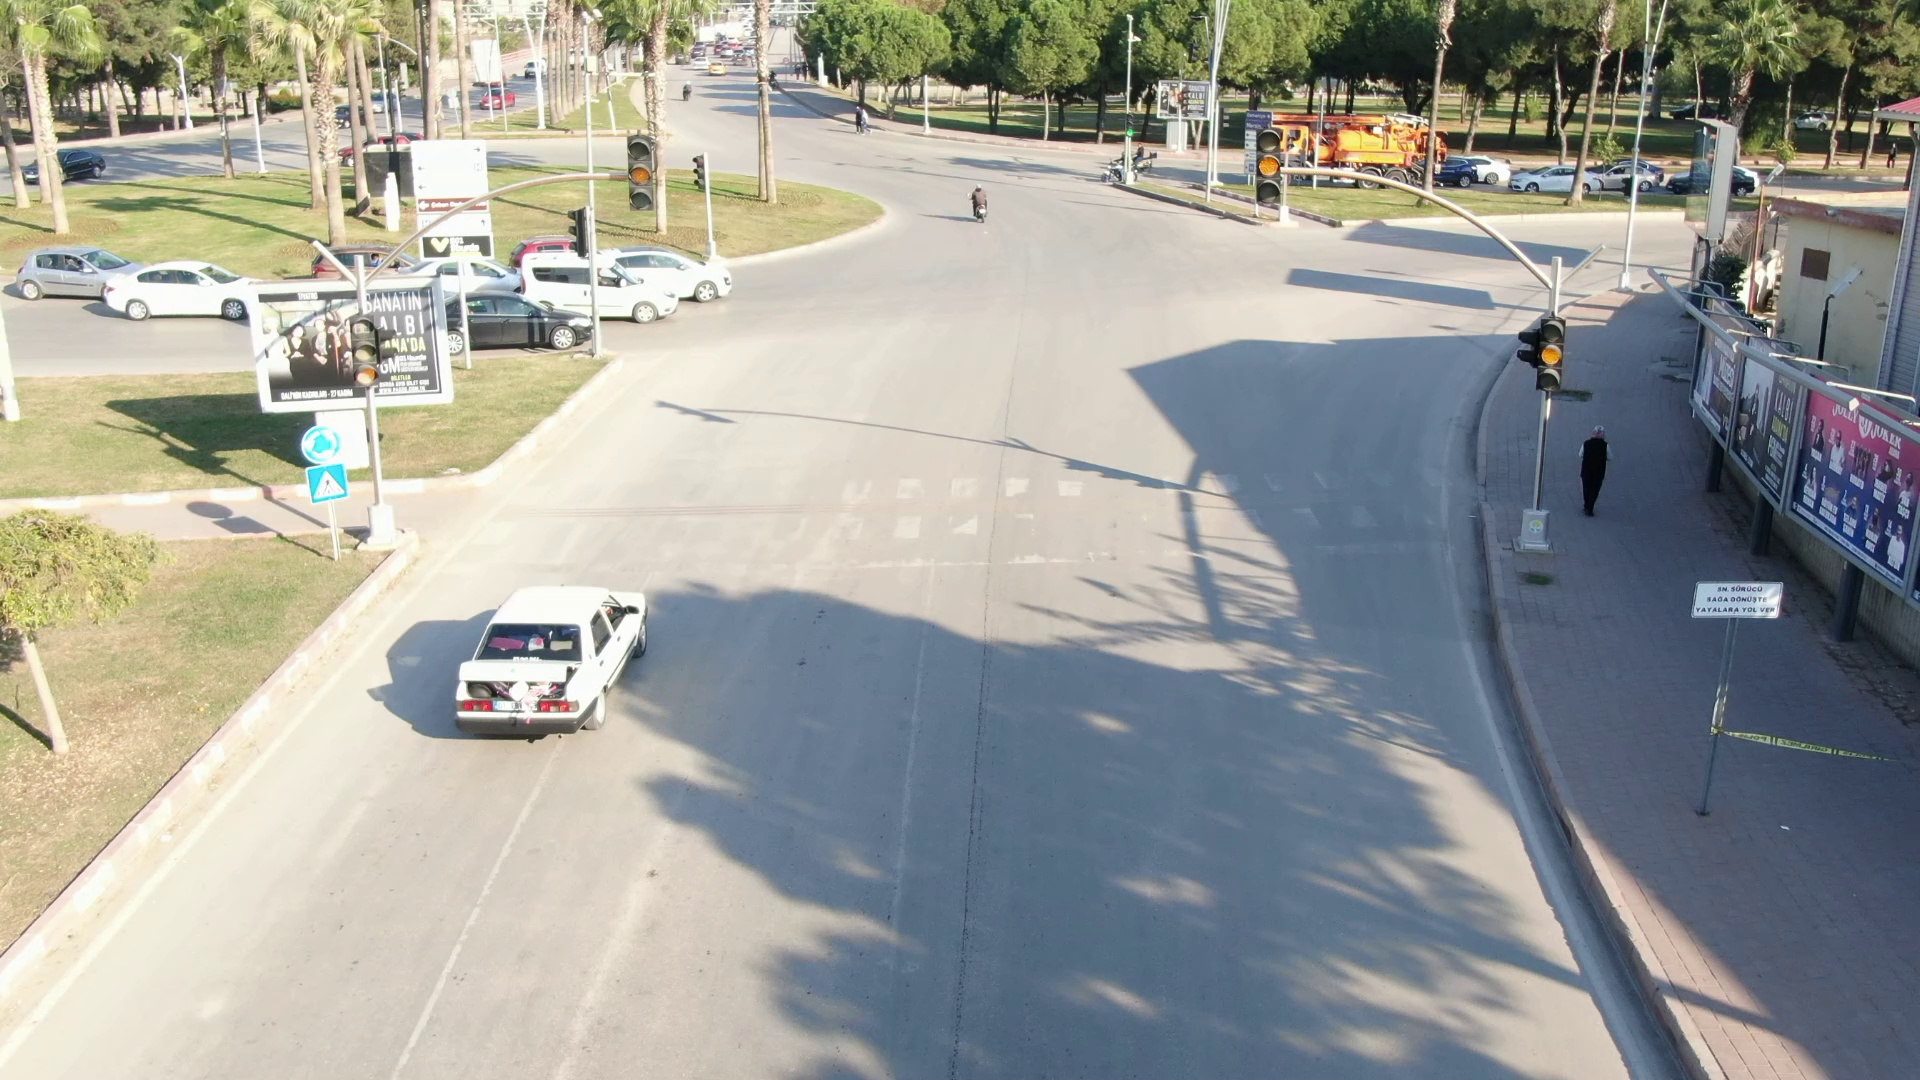car: (437, 588, 668, 749), (506, 241, 676, 331), (394, 280, 578, 347), (92, 259, 263, 312), (606, 243, 737, 300), (2, 241, 137, 290)
person: (1570, 413, 1612, 525), (953, 178, 998, 223)
